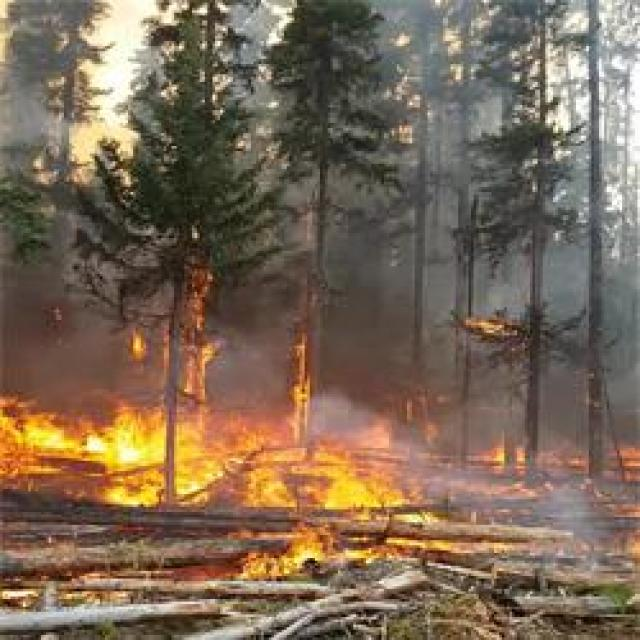fire: (0, 396, 224, 507), (252, 470, 406, 526)
smoke: (1, 57, 70, 171), (309, 397, 401, 456)
